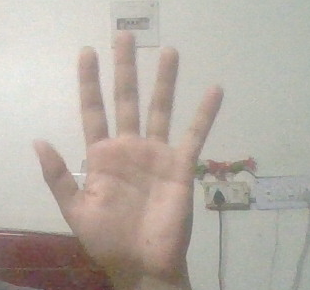move: (29, 30, 224, 290)
